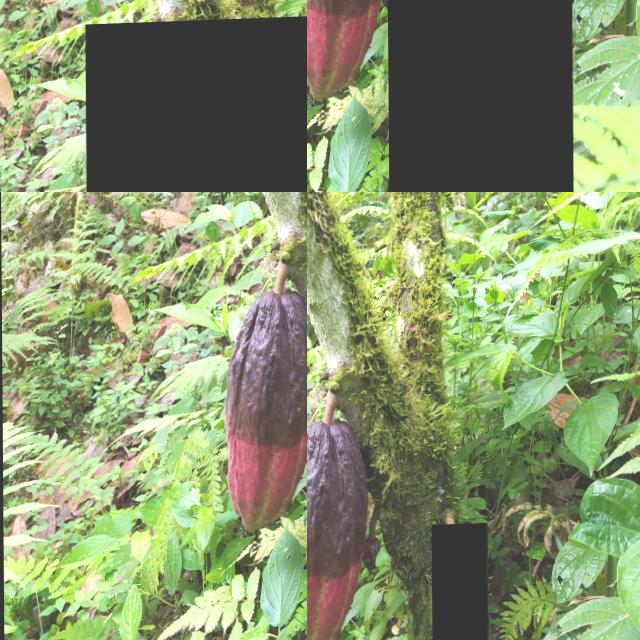Fitoftora: (307, 416, 368, 640), (431, 526, 488, 640)
Monilia: (85, 16, 307, 192)
Sana: (386, 0, 572, 192), (307, 37, 318, 89)
